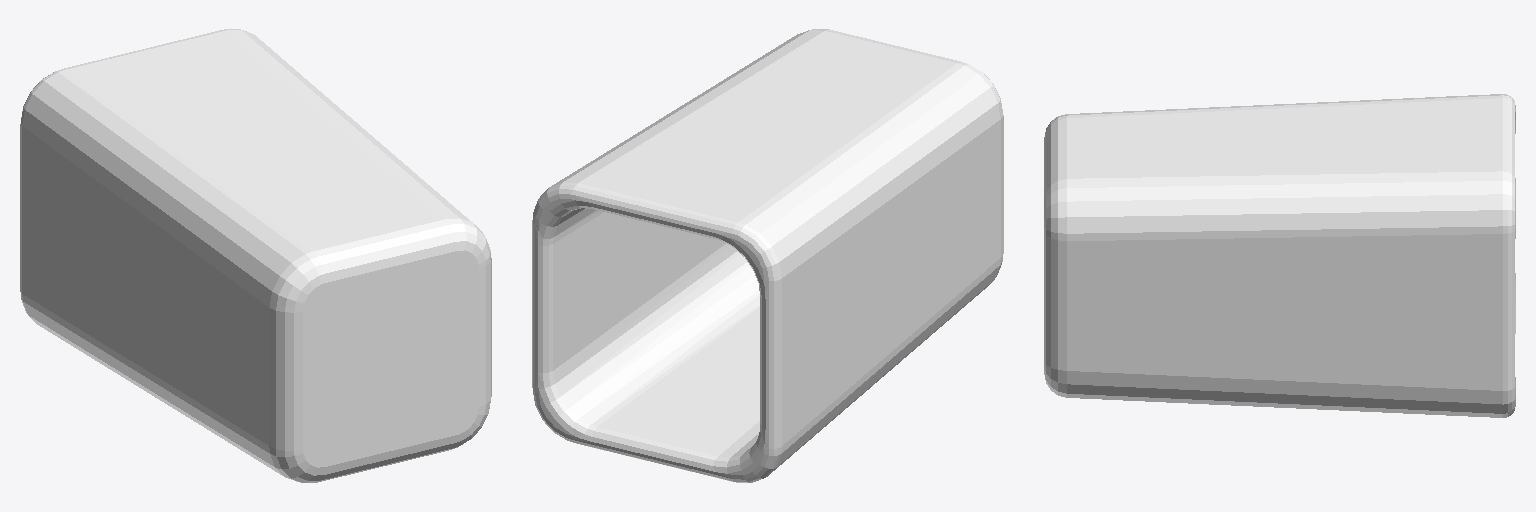
URDF robot description (cup_appearance):
<?xml version="1.0" encoding="utf-8"?>
<!-- This URDF was automatically created by SolidWorks to URDF Exporter! Originally created by [author] ([email redacted]) 
     Commit Version: 1.6.0-1-g15f4949  Build Version: 1.6.7594.29634
     For more information, please see http://wiki.ros.org/sw_urdf_exporter -->
<robot
  name="cup_appearance">
  <link
    name="base_link">
    <inertial>
      <origin
        xyz="-4.23246452500885E-17 0.0472406928849877 8.04026375741246E-17"
        rpy="0 0 0" />
      <mass
        value="0.0947111307404904" />
      <inertia
        ixx="0.000121990326148205"
        ixy="1.32159083207117E-20"
        ixz="-2.19941447732981E-12"
        iyy="6.90057768886549E-05"
        iyz="-3.16450190789644E-19"
        izz="0.000121990258359475" />
    </inertial>
    <visual>
      <origin
        xyz="0 0 0"
        rpy="0 0 0" />
      <geometry>
        <mesh
          filename="package://cup_appearance/meshes/base_link.STL" />
      </geometry>
      <material
        name="">
        <color
          rgba="1 1 1 1" />
      </material>
    </visual>
    <collision>
      <origin
        xyz="0 0 0"
        rpy="0 0 0" />
      <geometry>
        <mesh
          filename="package://cup_appearance/meshes/base_link.STL" />
      </geometry>
    </collision>
  </link>
</robot>

--- Render facts (derived) ---
3 views of the same robot in one strip: view 1: azimuth 30°, elevation 25°; view 2: azimuth 150°, elevation 25°; view 3: azimuth 270°, elevation 25° (orthographic).
Model cup_appearance with 1 links and 0 joints (none), rooted at base_link, posed all joints at 0.
Visible links, largest first — view 1: base_link; view 2: base_link; view 3: base_link.
Link boxes in pixels (left/top/right/bottom): base_link: left=20, top=29, right=491, bottom=482; base_link: left=532, top=29, right=1003, bottom=482; base_link: left=1044, top=94, right=1515, bottom=417.
Bounding box of the posed robot: 0.0568 × 0.1 × 0.0568 m (x, y, z).
Meshes: 1 distinct files referenced, 1 mesh visuals loaded (1 binary STL).